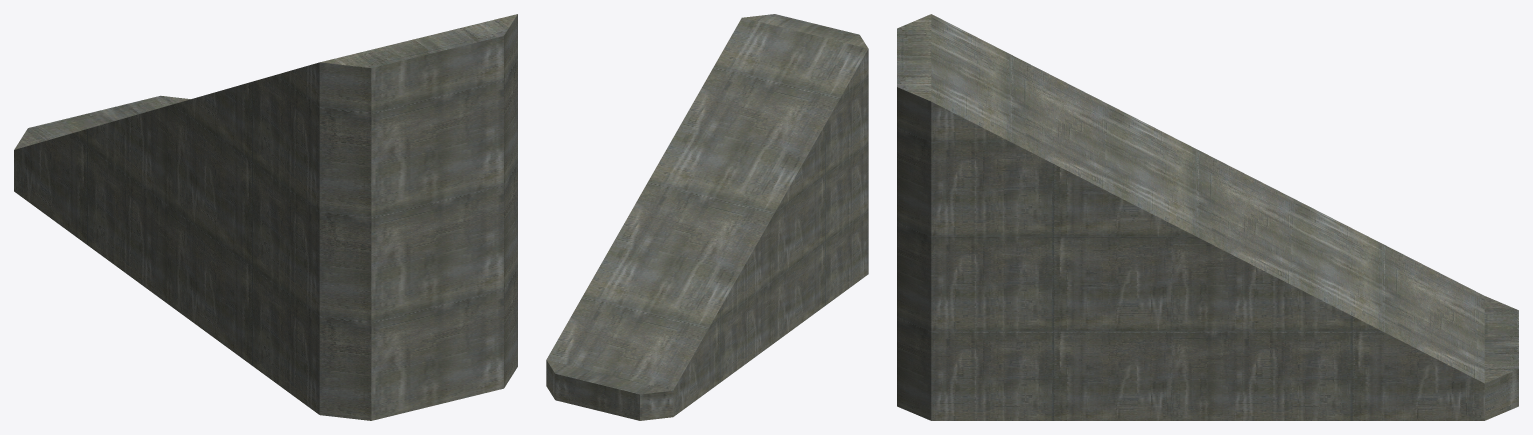
File: RealitySlope_2x6.fbx
3 renders of one model, left to right at view 1: azimuth 30°, elevation 25°; view 2: azimuth 150°, elevation 25°; view 3: azimuth 270°, elevation 25°, orthographic. The views are drawn at different scales.
Visible parts, largest first — view 1: RealitySlope_2x6; view 2: RealitySlope_2x6; view 3: RealitySlope_2x6.
Part boxes in pixels (x1=…): RealitySlope_2x6: x1=14, y1=14, x2=517, y2=420; RealitySlope_2x6: x1=546, y1=14, x2=868, y2=420; RealitySlope_2x6: x1=897, y1=14, x2=1518, y2=420.
Size of the model in its own units: 200 by 340 by 600.
